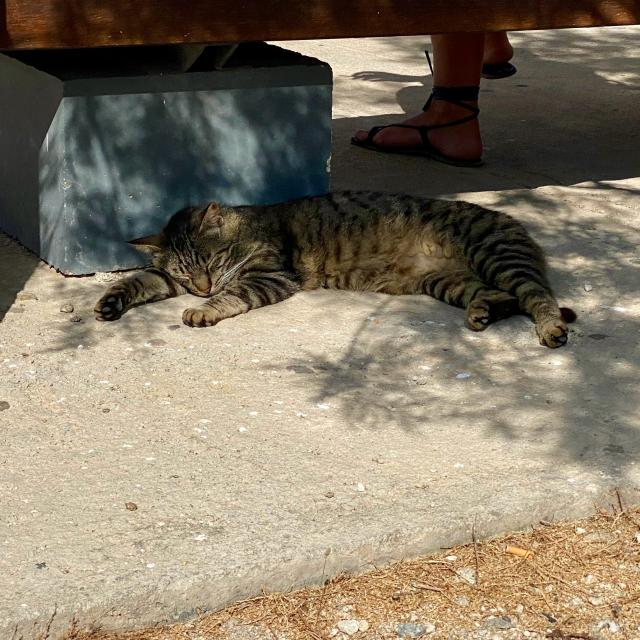cat: (95, 191, 574, 349)
